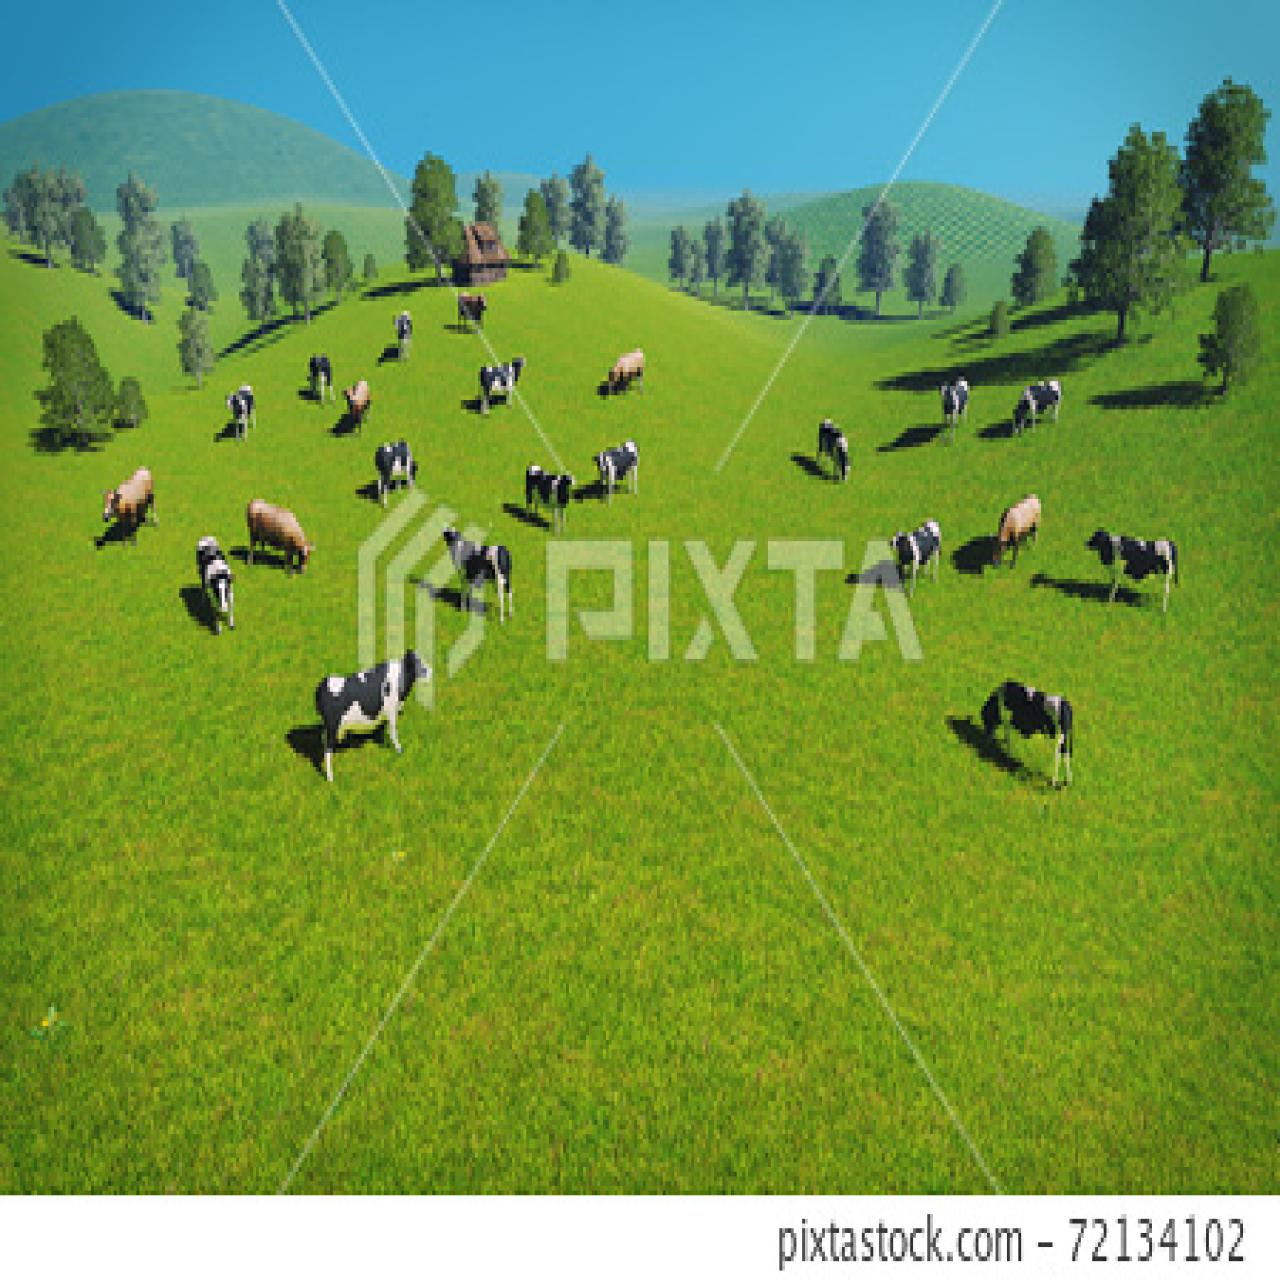cow: (315, 653, 435, 762), (980, 679, 1076, 784), (185, 526, 243, 654), (451, 535, 515, 620), (248, 503, 314, 570), (886, 515, 948, 583), (107, 470, 158, 532), (999, 498, 1047, 558), (1119, 537, 1177, 586), (527, 467, 579, 516), (595, 443, 641, 498), (372, 438, 415, 493), (954, 536, 1006, 578), (478, 361, 525, 407), (822, 421, 852, 479), (606, 349, 649, 390), (1084, 527, 1117, 573), (1029, 376, 1065, 417), (939, 380, 967, 425), (226, 382, 254, 427), (311, 350, 336, 399), (459, 293, 491, 324), (346, 374, 373, 406), (396, 312, 417, 343)
